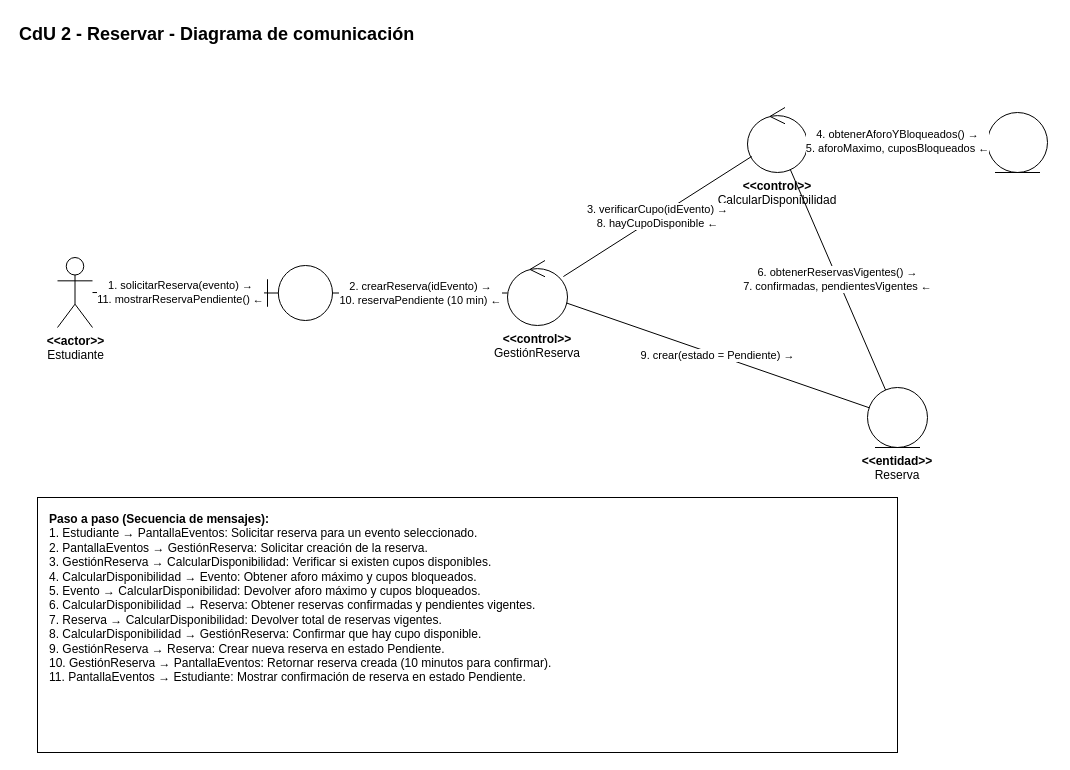
Image size: 1070x770. Some labels were removed from this diagram. The shapes that lost their labels are listed below. From the top down, each one's centre as x and y in pixels, then its label:
(x=1017, y=142): <<entidad>> Evento
(x=299, y=292): <<límite>> PantallaEventos
